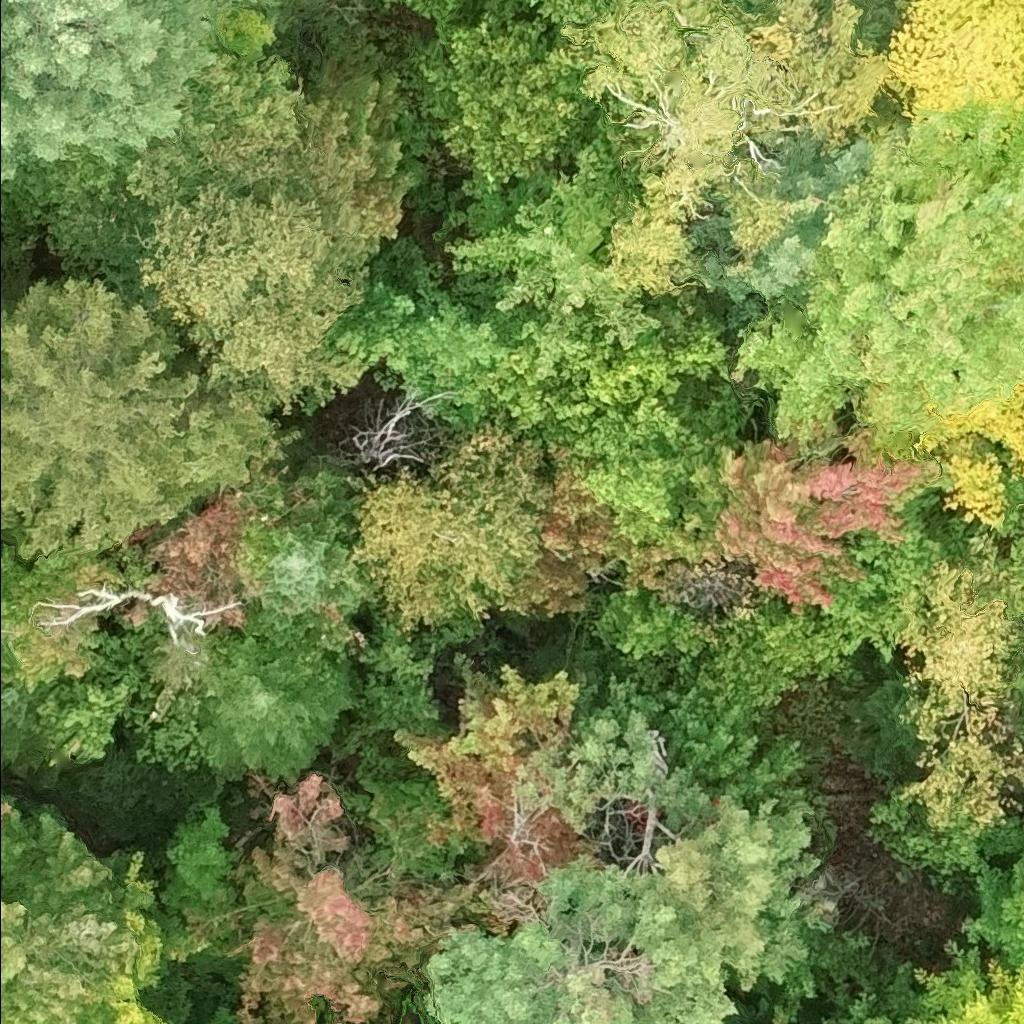crown: (732, 94, 1023, 456), (560, 0, 893, 299), (0, 276, 293, 558), (120, 130, 378, 418), (186, 771, 478, 1023), (657, 421, 943, 615), (424, 848, 740, 1023), (522, 303, 739, 547), (0, 0, 238, 187), (352, 417, 553, 633), (394, 655, 584, 882), (398, 0, 602, 198), (651, 782, 836, 997), (325, 236, 543, 417), (145, 468, 351, 629), (689, 130, 869, 304), (890, 516, 1023, 744), (512, 444, 685, 617), (0, 805, 137, 1023), (125, 45, 304, 208), (283, 66, 433, 242), (198, 629, 360, 788), (535, 709, 715, 836), (85, 848, 211, 1023), (244, 491, 379, 651), (442, 310, 603, 437), (879, 0, 1023, 125), (899, 702, 1023, 830), (907, 942, 1023, 1023), (960, 844, 1023, 971), (853, 966, 945, 1023), (0, 683, 44, 770), (378, 0, 487, 29), (517, 0, 614, 30), (0, 793, 15, 829), (770, 1005, 798, 1023), (239, 0, 293, 9), (846, 1015, 894, 1023), (0, 322, 4, 335), (481, 931, 484, 934), (477, 930, 481, 931)
